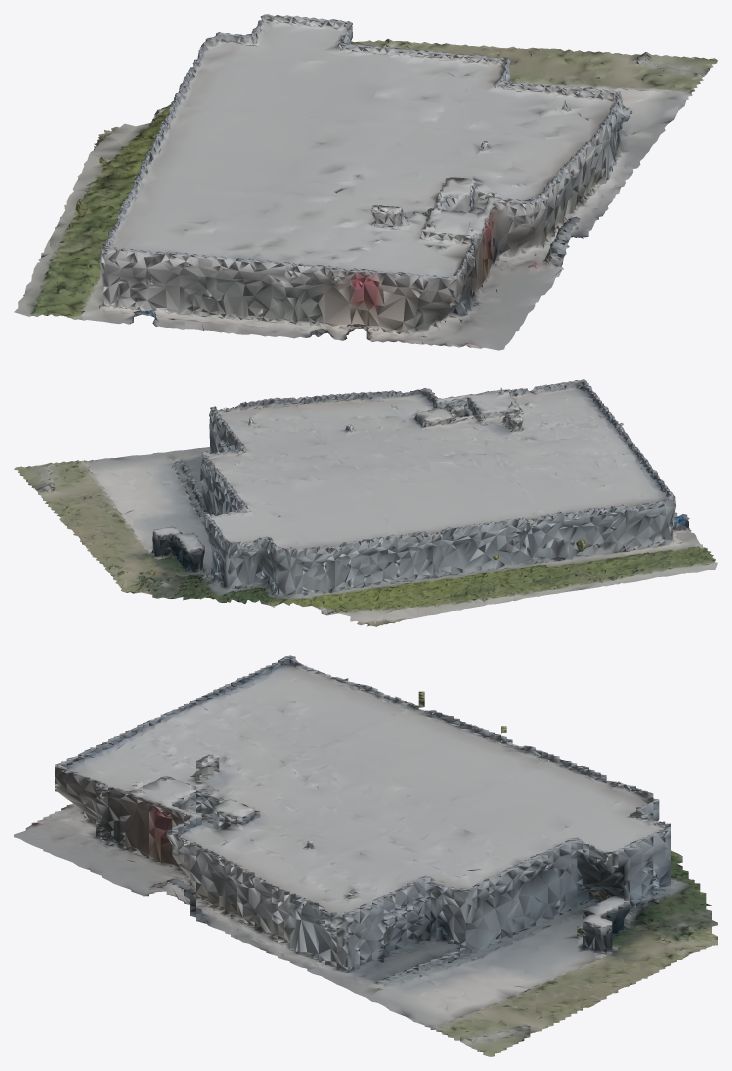
3 views of the same model, one above another, from view 1: azimuth 30°, elevation 25°; view 2: azimuth 150°, elevation 25°; view 3: azimuth 270°, elevation 25° (orthographic). The views are drawn at different scales.
Visible parts, largest first — view 1: defaultobject; view 2: defaultobject; view 3: defaultobject.
Part boxes in pixels (left/top/right/bottom): defaultobject: left=14, top=14, right=717, bottom=350; defaultobject: left=14, top=379, right=717, bottom=626; defaultobject: left=14, top=655, right=717, bottom=1056.
Size of the model in its own units: 75.12 by 7.82 by 60.
